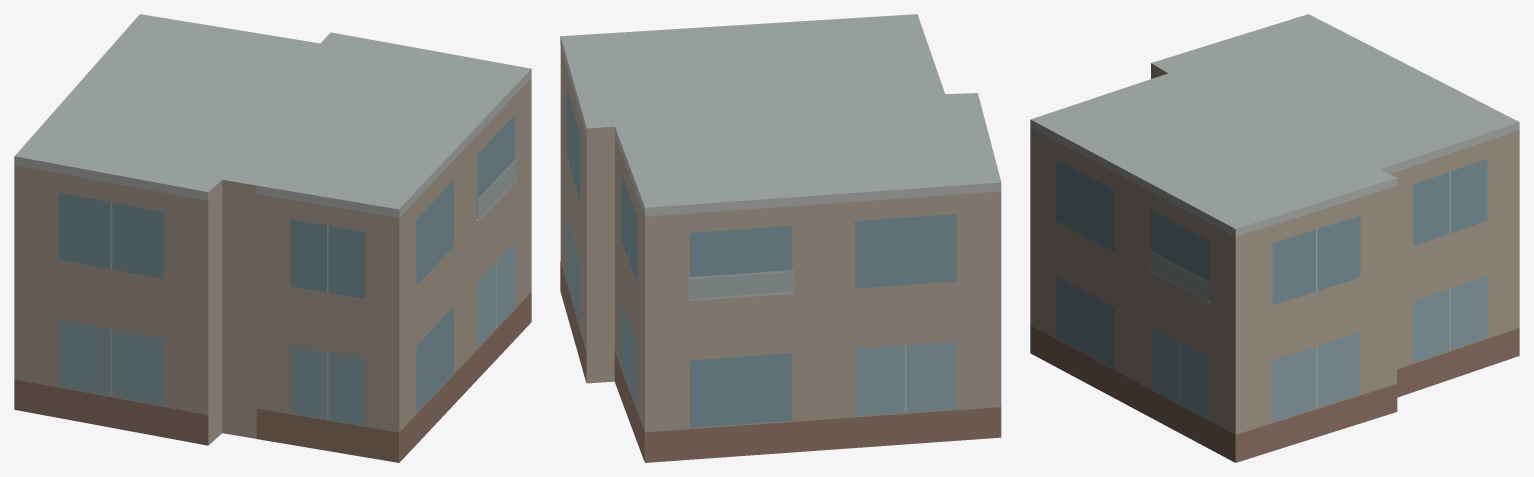
Rendered from survey-upis-32492886.glb.
3 views of the same model, side by side, from view 1: azimuth 30°, elevation 25°; view 2: azimuth 150°, elevation 25°; view 3: azimuth 270°, elevation 25° (orthographic). The views are drawn at different scales.
Parts seen in each view (by area): view 1: survey-upis-32492886.tmp; view 2: survey-upis-32492886.tmp; view 3: survey-upis-32492886.tmp.
Boxes of the visible parts, bbox=[...] form: survey-upis-32492886.tmp: bbox=[14, 14, 531, 462]; survey-upis-32492886.tmp: bbox=[560, 14, 1001, 462]; survey-upis-32492886.tmp: bbox=[1030, 14, 1519, 462].
Bounding box in the file's own units: 14.01 × 7.1 × 13.47.
